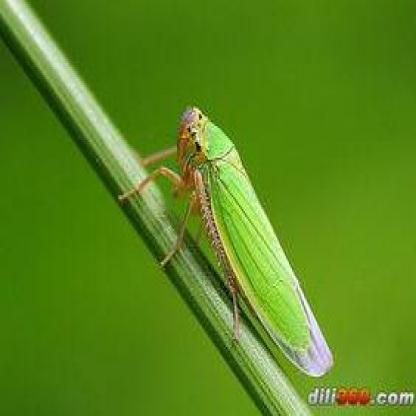Green-Leafhopper: (120, 104, 336, 380)
